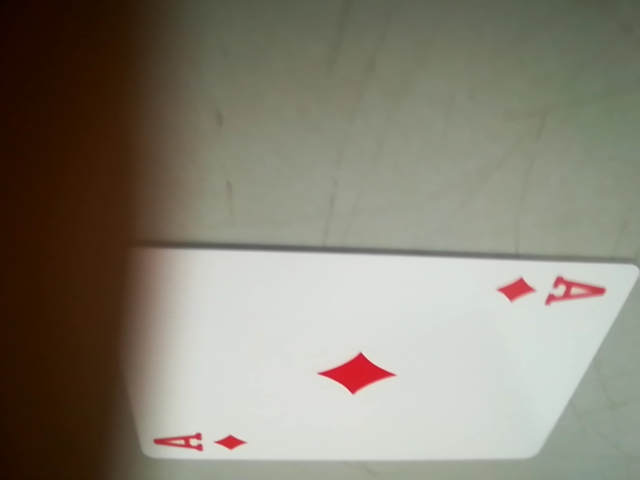fk a: (490, 270, 615, 313), (142, 428, 253, 457)
